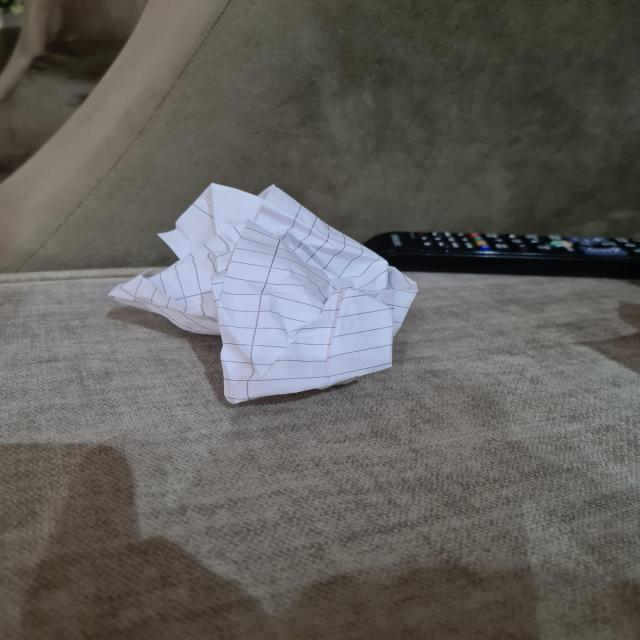trash: (124, 186, 420, 390)
